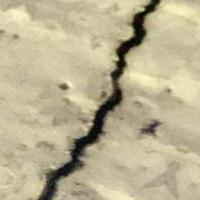crack: (22, 0, 174, 199)
